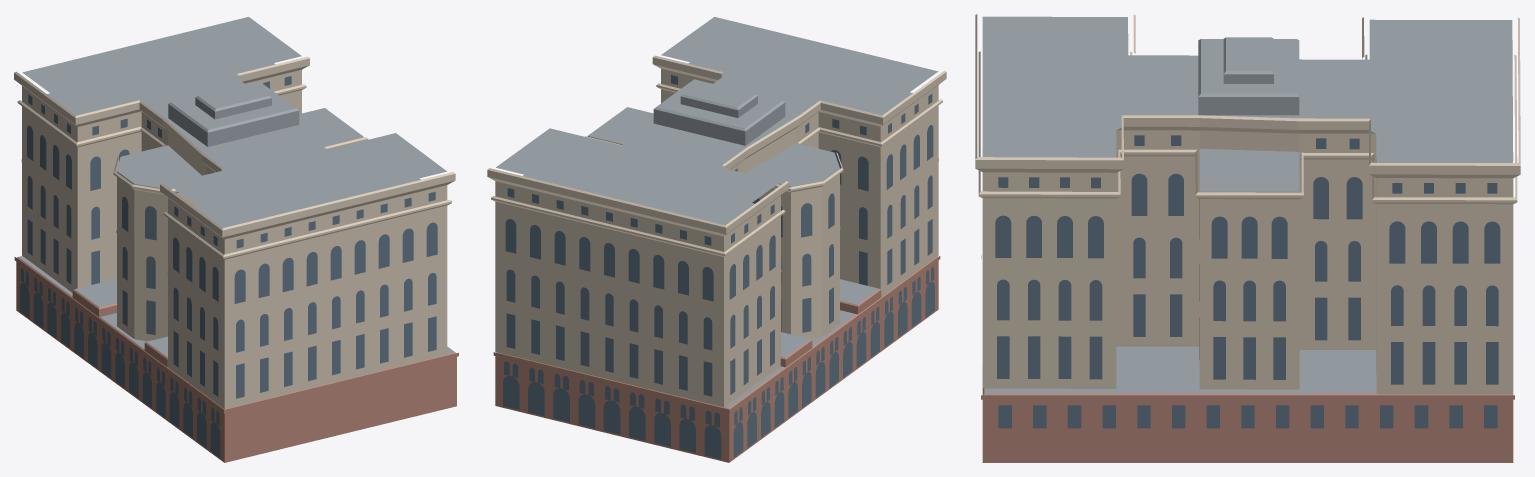
The model's file is den-equitable-building.glb.
The picture shows the model from 3 angles, left to right: view 1: azimuth 30°, elevation 25°; view 2: azimuth 150°, elevation 25°; view 3: azimuth 270°, elevation 25°; orthographic projection. The views are drawn at different scales.
Visible parts, largest first — view 1: Equitable Building; view 2: Equitable Building; view 3: Equitable Building.
Part boxes in pixels (x1=…): Equitable Building: x1=14, y1=17, x2=458, y2=462; Equitable Building: x1=487, y1=17, x2=946, y2=462; Equitable Building: x1=975, y1=14, x2=1520, y2=462.
Bounding box in the file's own units: 42.52 × 44 × 64.96.
